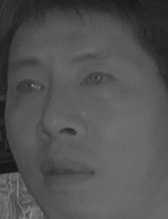eye: (76, 69, 118, 91), (11, 75, 48, 98)
mouth: (33, 153, 98, 190)
